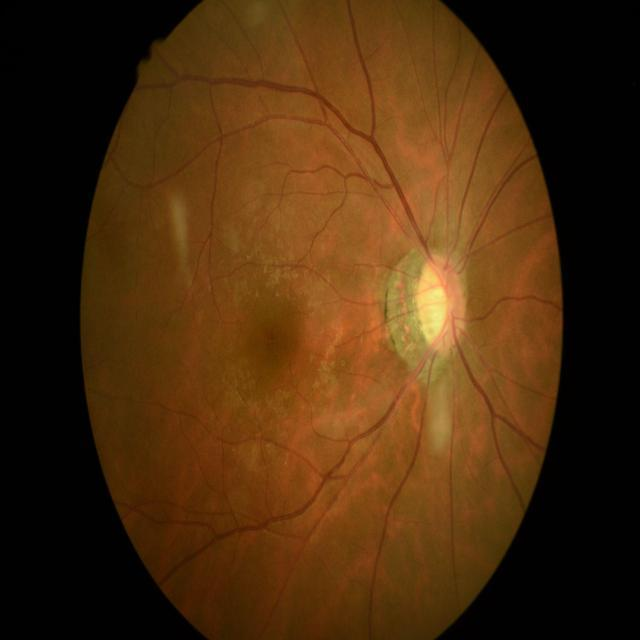cup: (422, 270, 452, 350)
disk: (416, 254, 468, 358)
